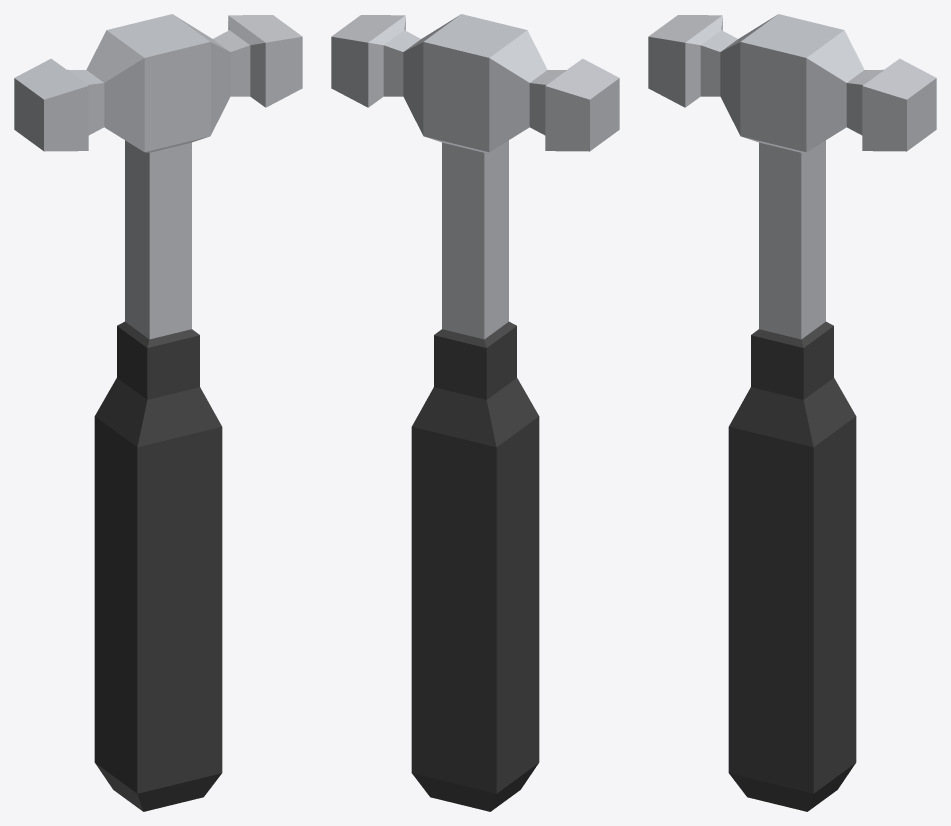
File: SM_Item_Hammer_02.fbx
3 views of the same model, side by side, from view 1: azimuth 30°, elevation 25°; view 2: azimuth 150°, elevation 25°; view 3: azimuth 330°, elevation 25° (orthographic).
Visible parts, largest first — view 1: SM_Item_Hammer_02; view 2: SM_Item_Hammer_02; view 3: SM_Item_Hammer_02.
Part boxes in pixels (x1=…): SM_Item_Hammer_02: x1=14, y1=14, x2=302, y2=811; SM_Item_Hammer_02: x1=331, y1=14, x2=619, y2=811; SM_Item_Hammer_02: x1=648, y1=14, x2=936, y2=811.
Size of the model in its own units: 16.51 by 46.2 by 4.71.
